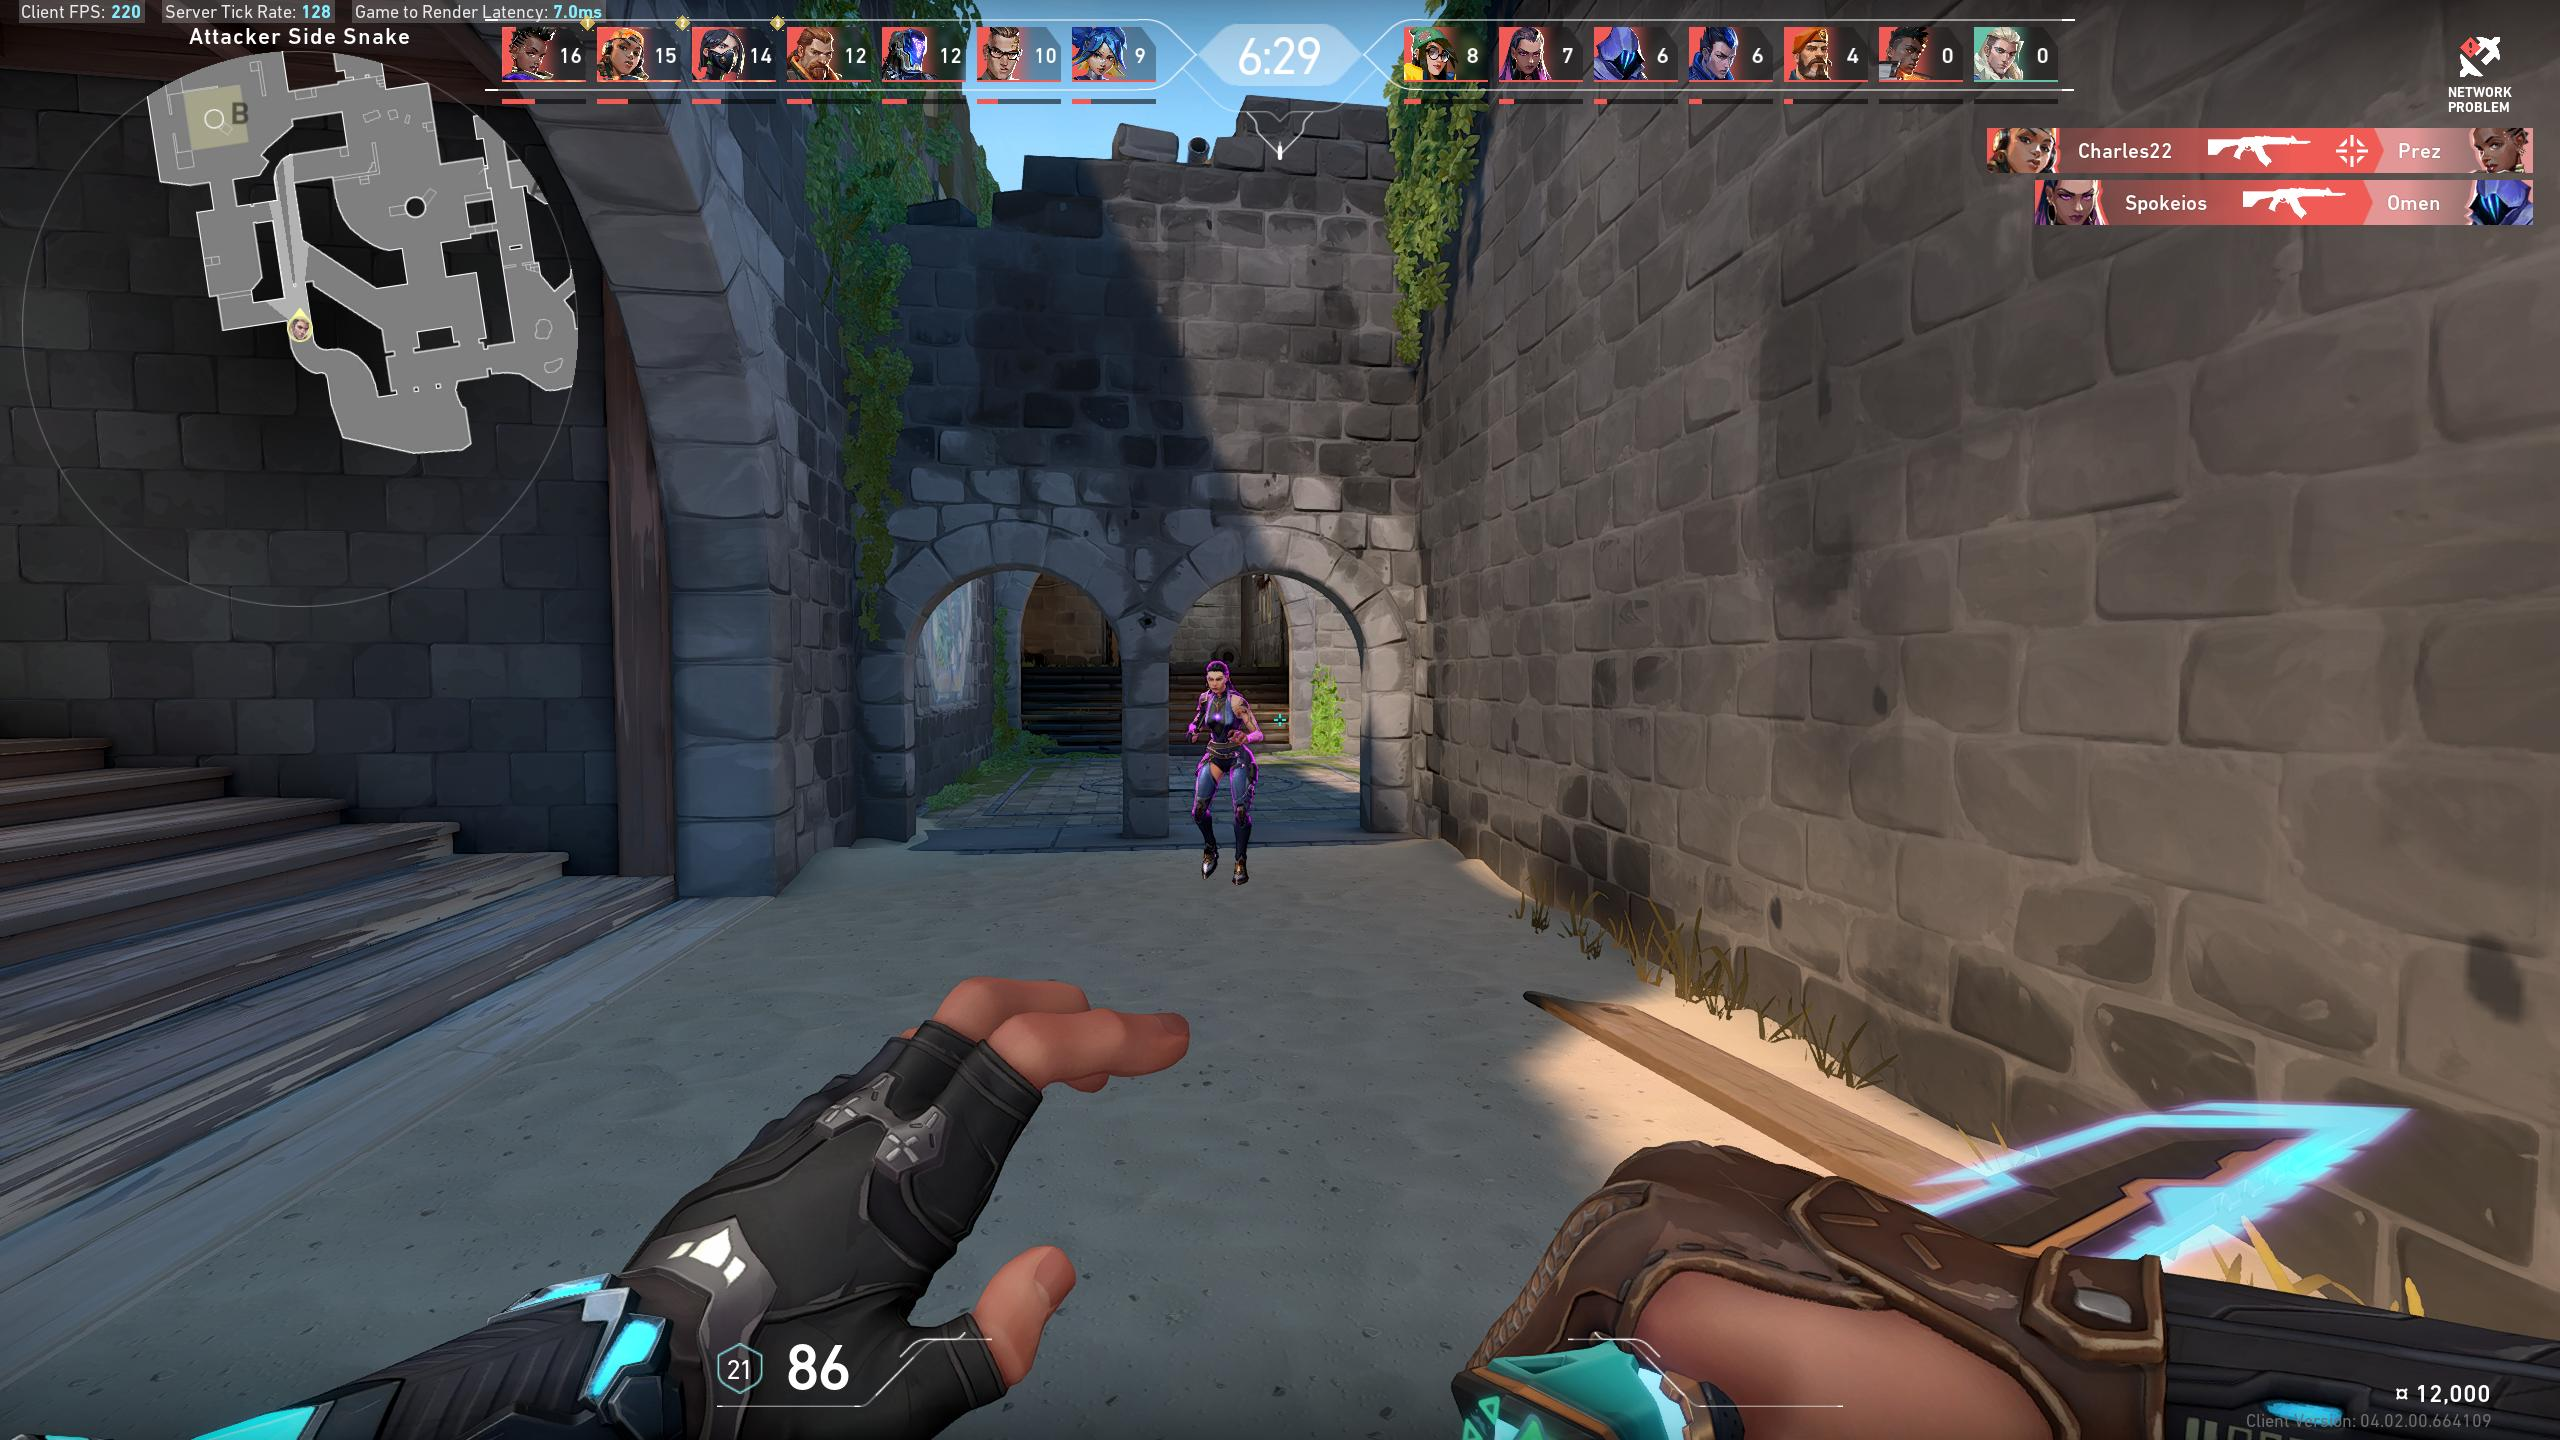enemyBody: (1210, 696, 1234, 740)
enemyHead: (1210, 670, 1225, 691)
